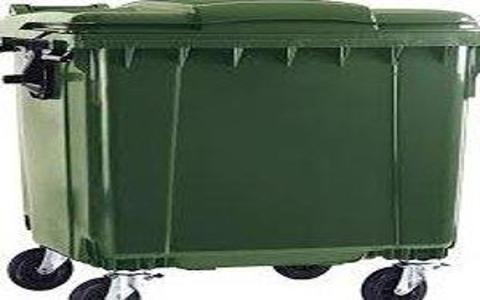Proper garbage: (3, 1, 480, 297)
